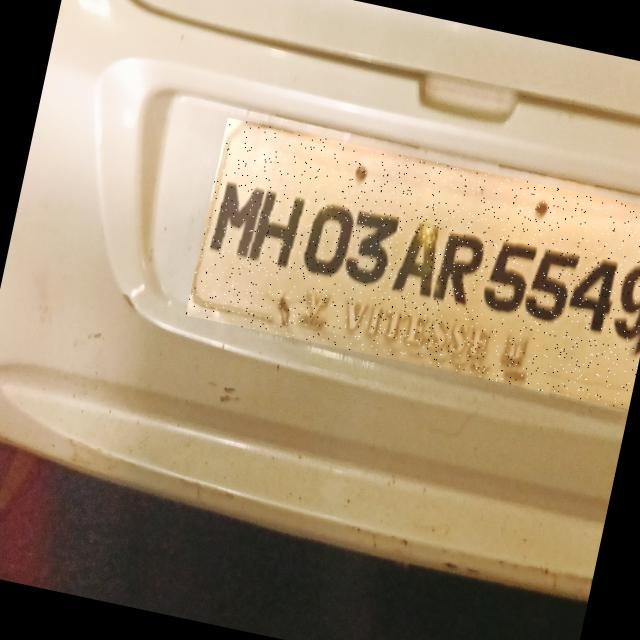Plate: (186, 118, 640, 410)
